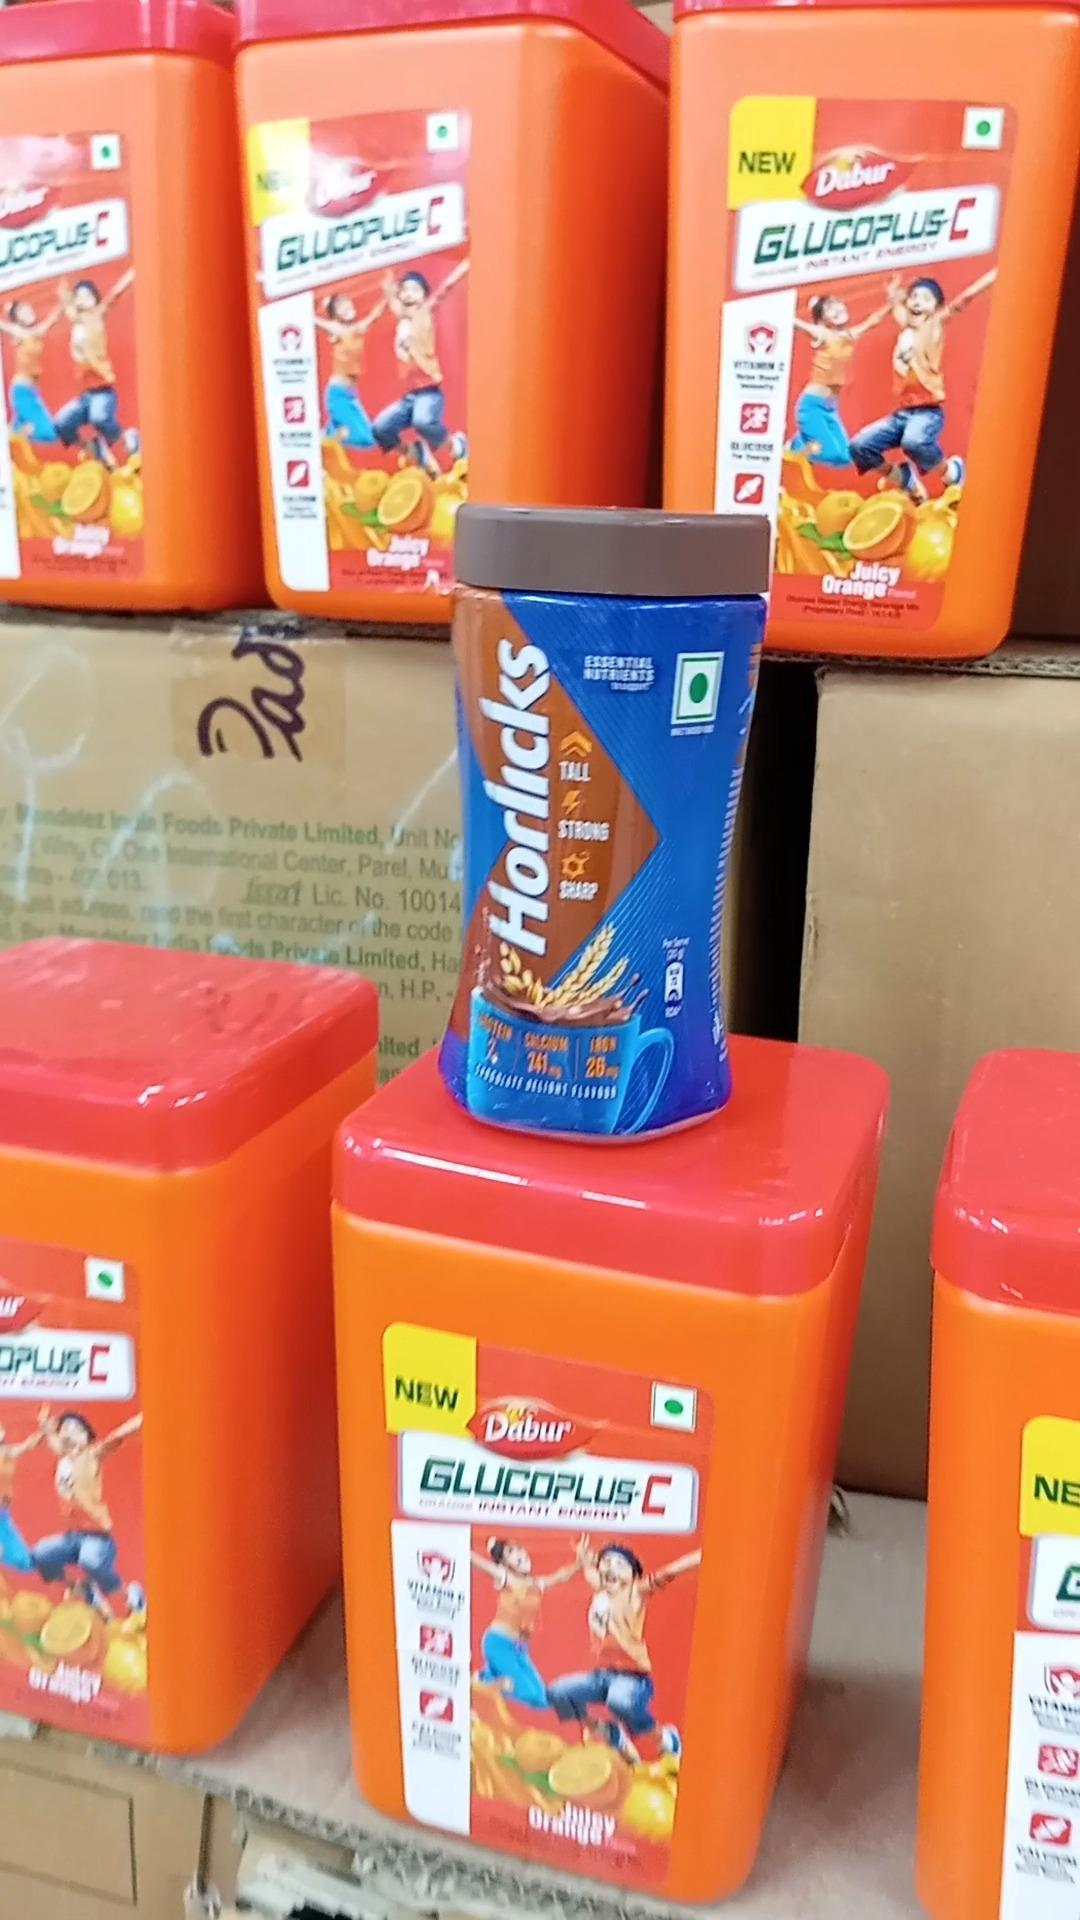HORLICK_CHOCOLATE_200_G_JAR: (443, 475, 741, 1129)
